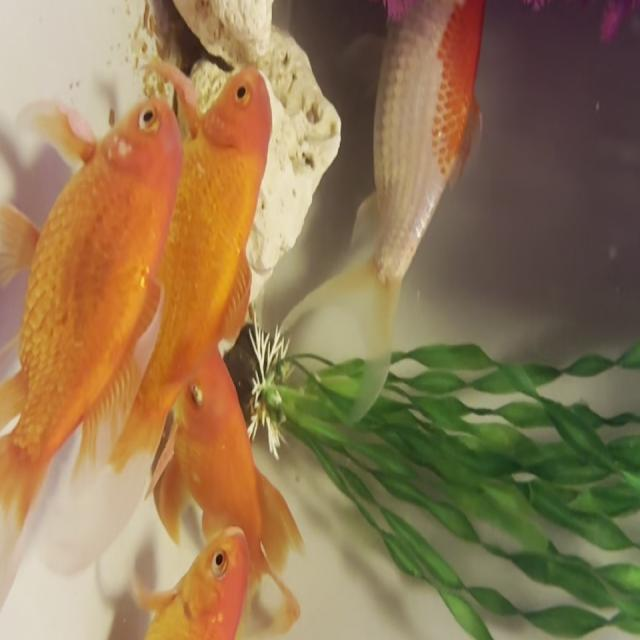fish: (0, 83, 183, 500), (277, 0, 474, 370), (108, 61, 270, 471), (150, 338, 303, 632), (173, 30, 336, 299), (88, 524, 251, 640)
